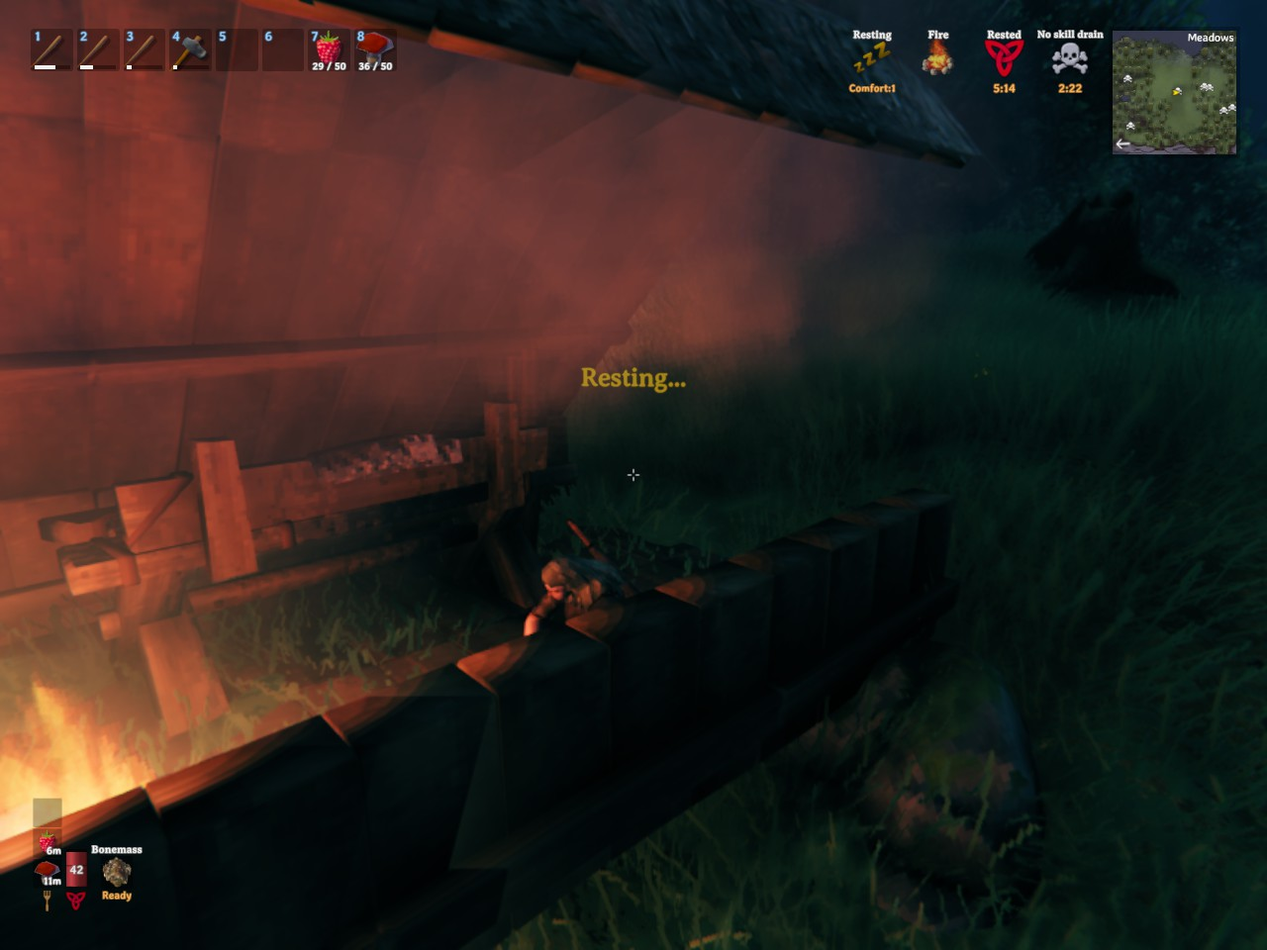Status Indicator: (835, 24, 1109, 104)
